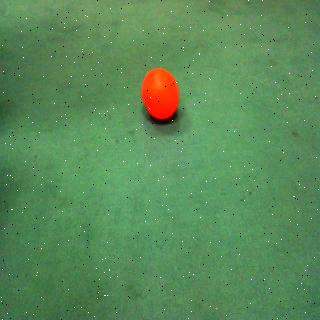orange: (135, 64, 181, 128)
